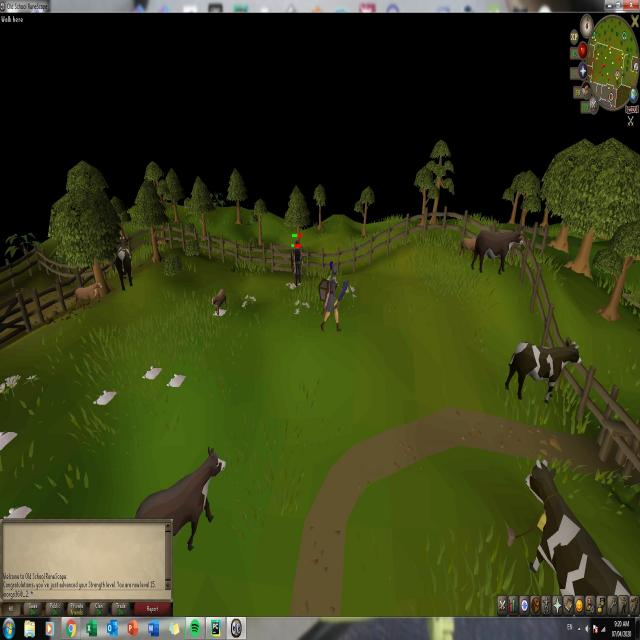cow: (174, 446, 227, 552), (505, 337, 581, 406), (471, 226, 524, 274), (115, 233, 134, 290), (73, 278, 104, 307), (210, 284, 226, 318), (458, 233, 475, 258)
player: (320, 256, 341, 334)
